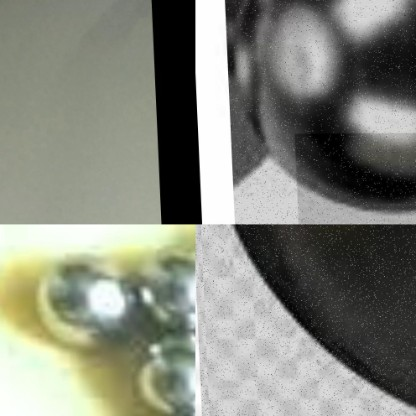ironball: (219, 0, 415, 224), (195, 224, 415, 415), (291, 132, 415, 224), (36, 249, 124, 342), (127, 224, 195, 337), (129, 334, 196, 415)
